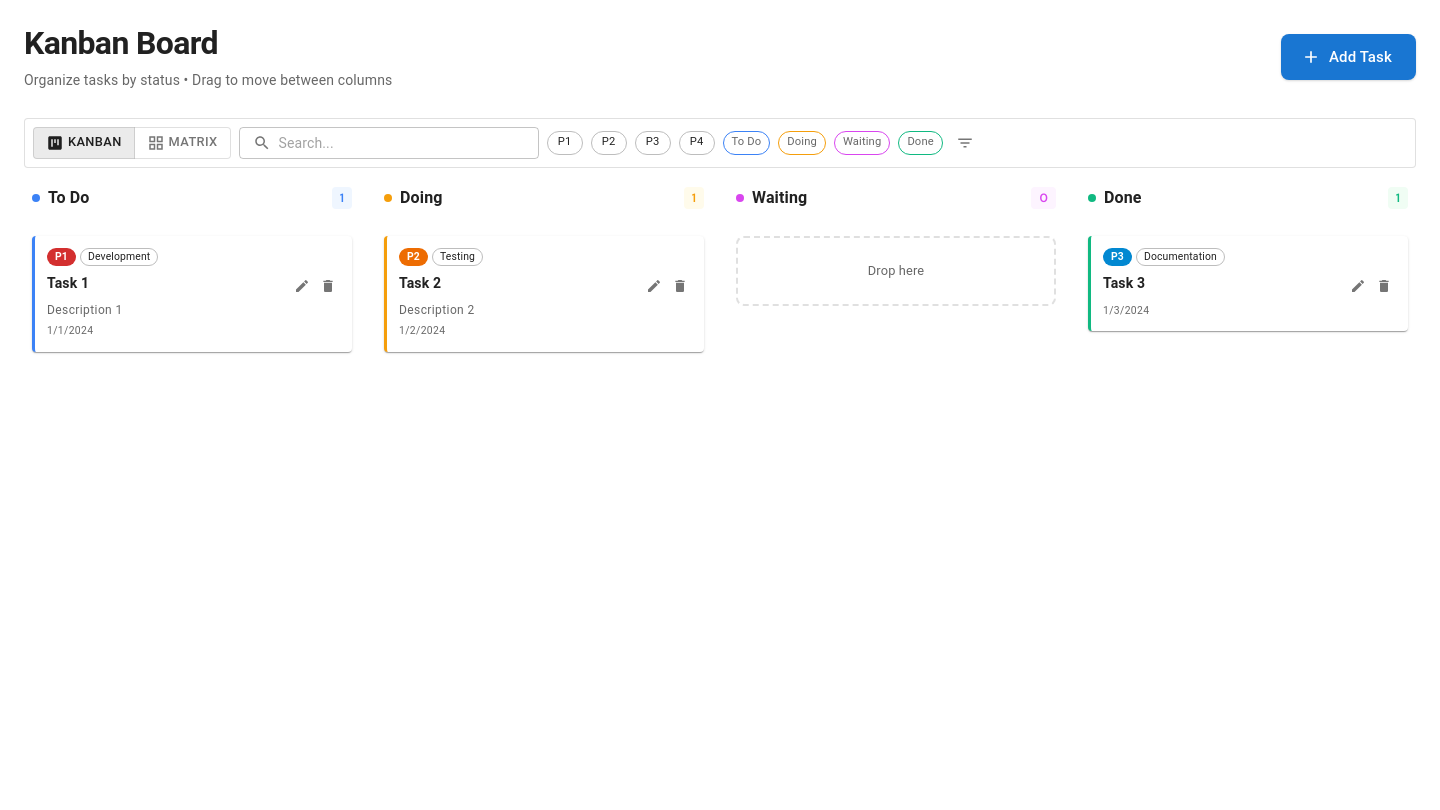
Scenario: Board Component › opens create dialog when Add Task button is clicked
The image size is (1440, 810).
expect the text "Task 1" is shown: met, box [47,274,89,290]
Click the button "Add Task" at (1348, 57), box [1281,34,1416,80]
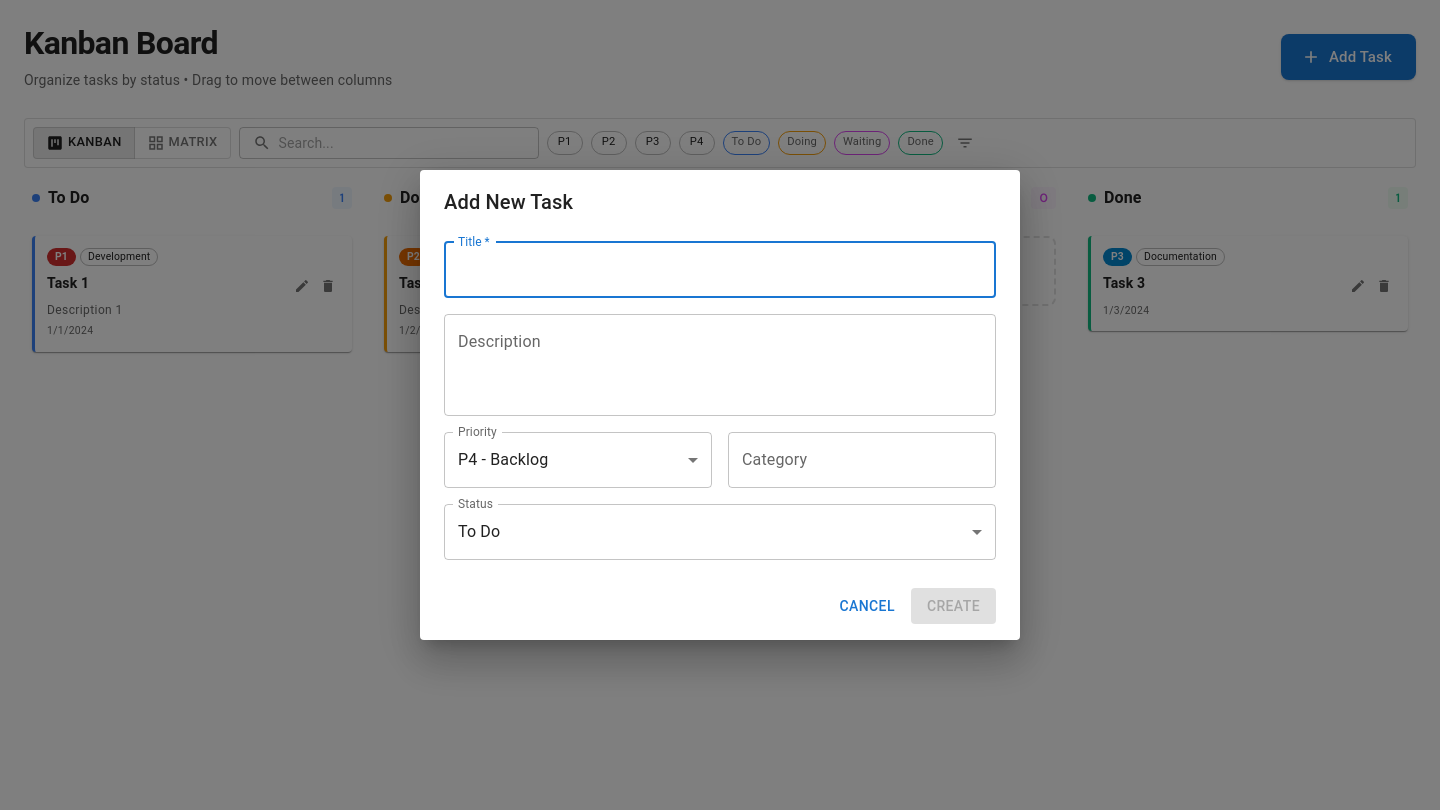
expect the dialog is shown: met, box [420,170,1020,640]
